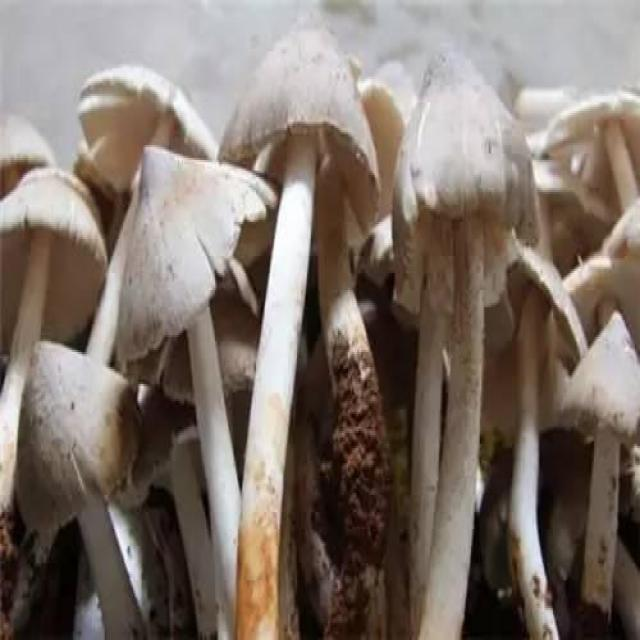Collybia albuminosa: (220, 20, 381, 640), (118, 145, 278, 637), (396, 45, 526, 634), (82, 67, 218, 373), (483, 243, 584, 640), (18, 336, 141, 633), (0, 168, 108, 502), (556, 313, 640, 608), (548, 89, 640, 223)
